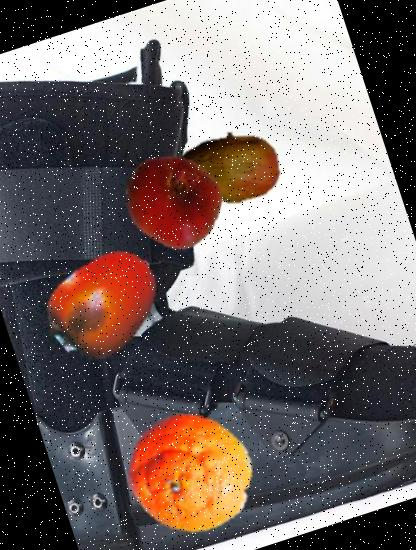Kaki: (30, 228, 180, 378)
Mandarine: (111, 392, 270, 550)
Nectarine: (112, 141, 233, 262)
Papaya: (158, 99, 296, 236)
